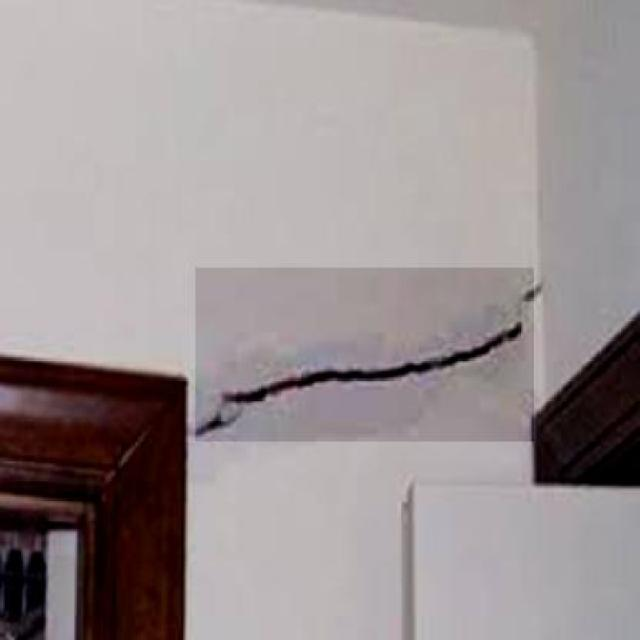Crack: (192, 275, 538, 439)
